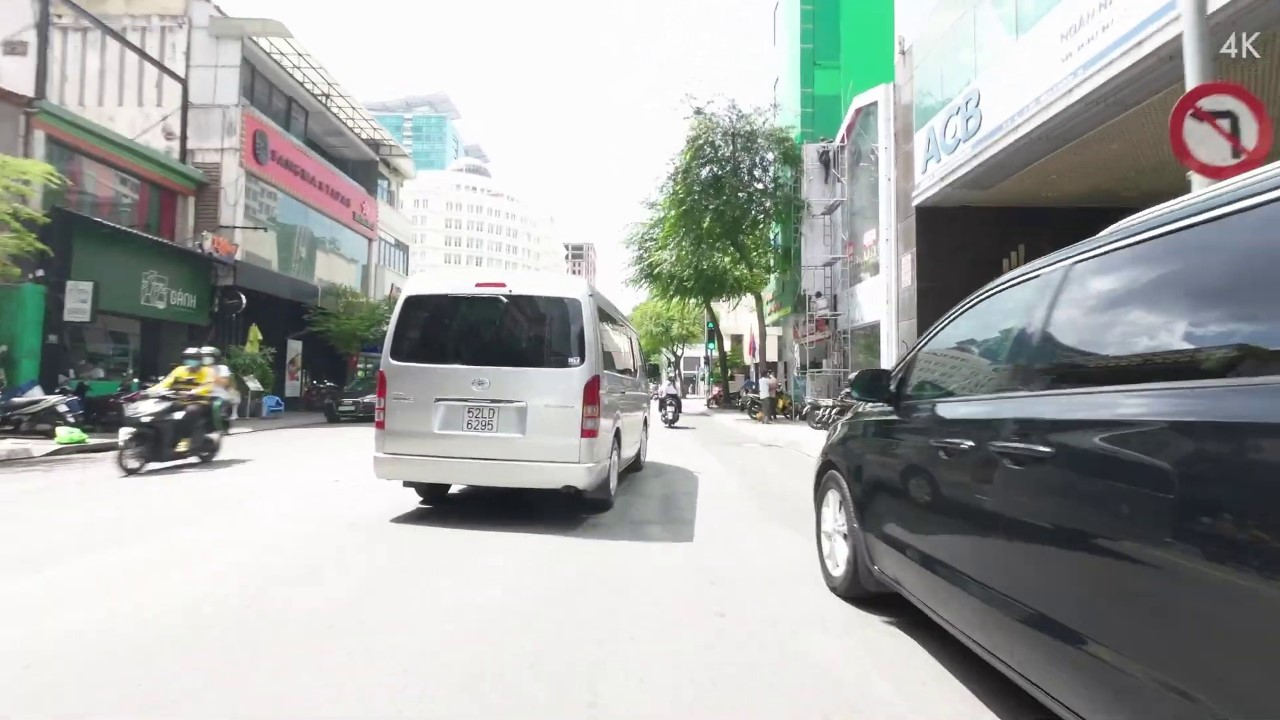cam_re_trai: (1164, 80, 1276, 181)
